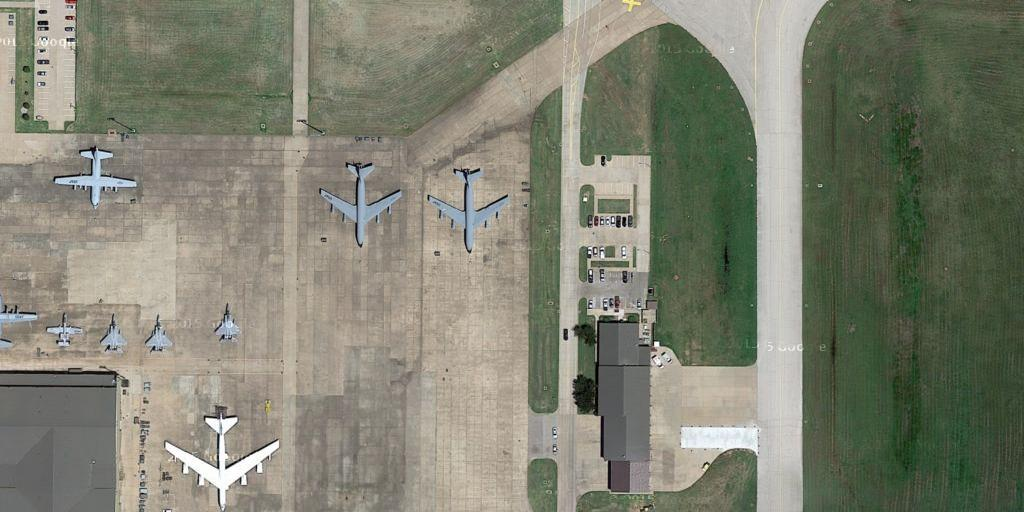A-10: (42, 311, 90, 350)
B-52: (159, 403, 286, 510)
C-130: (49, 143, 140, 208)
F-15: (141, 311, 175, 356), (96, 312, 130, 355), (211, 301, 243, 346)
KC-135: (314, 154, 407, 252), (427, 164, 514, 253)
